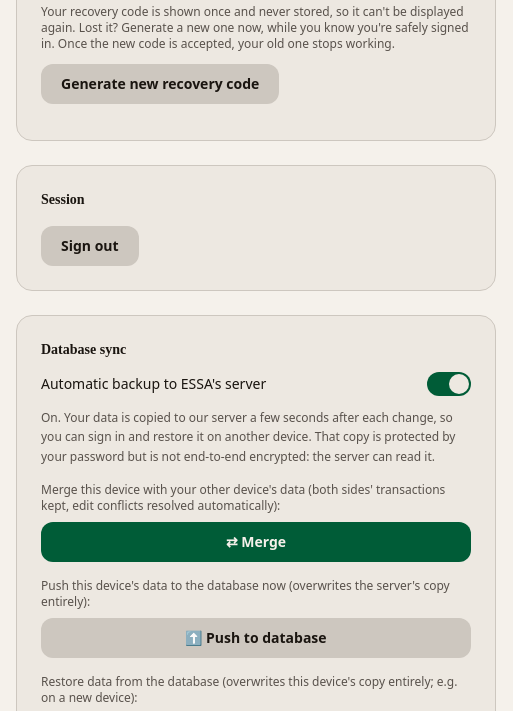
Scenario: turning backup off and deleting the server copy applies that choice to this device's data, and stores what comes back
The width and height of the screenshot is (513, 711).
(page scrolled)
Step 1. Click the switch named "Automatic backup to ESSA's server" → (449, 384), box [427,372,471,396]
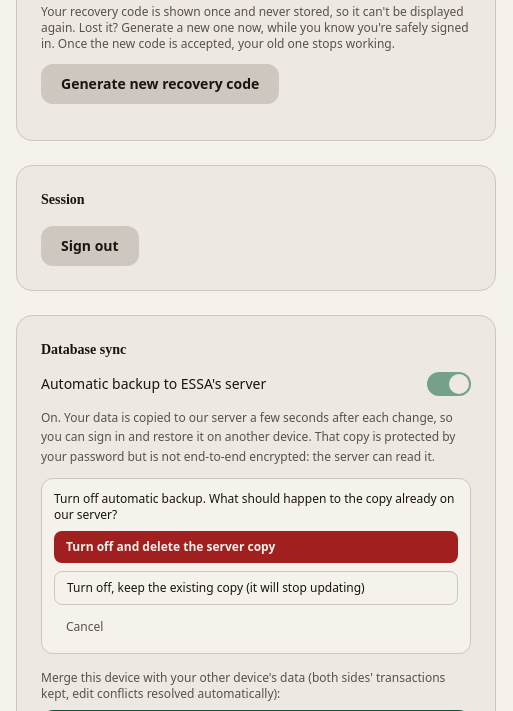
Step 2. Click the button "Turn off and delete the server copy" → (256, 547), box [54,531,458,563]
(page scrolled)
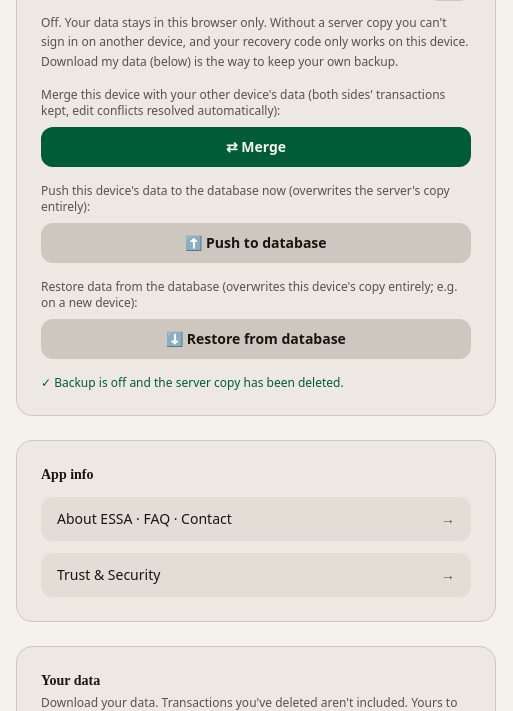
Result: the text "✓ Backup is off and the server copy has been deleted." is shown at [41,374,344,391]
